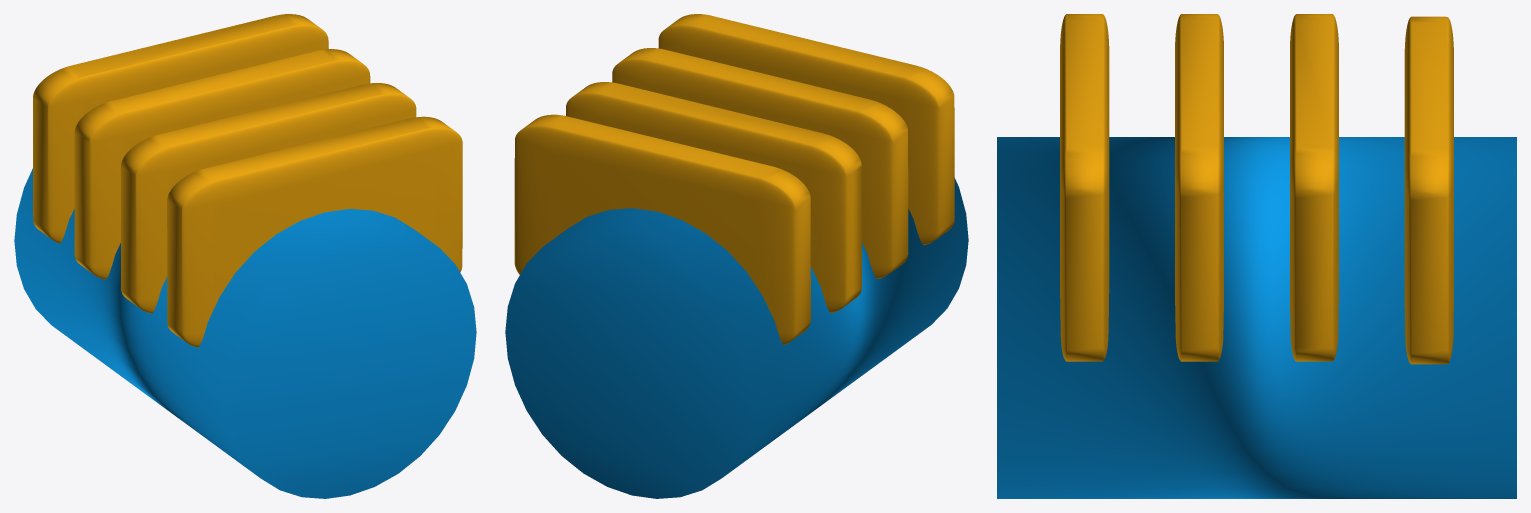
Rendered from sql-3d.glb.
The picture shows the model from 3 angles, left to right: view 1: azimuth 30°, elevation 25°; view 2: azimuth 150°, elevation 25°; view 3: azimuth 270°, elevation 25°; orthographic projection. The views are drawn at different scales.
Visible parts, largest first — view 1: Cube.003; view 2: Cube.003; view 3: Cube.003.
Boxes of the visible parts, <box> form: Cube.003: <box>14,14,476,498</box>; Cube.003: <box>505,14,968,498</box>; Cube.003: <box>997,14,1516,498</box>.
Size of the model in its own units: 7.79 by 8.37 by 9.9.
